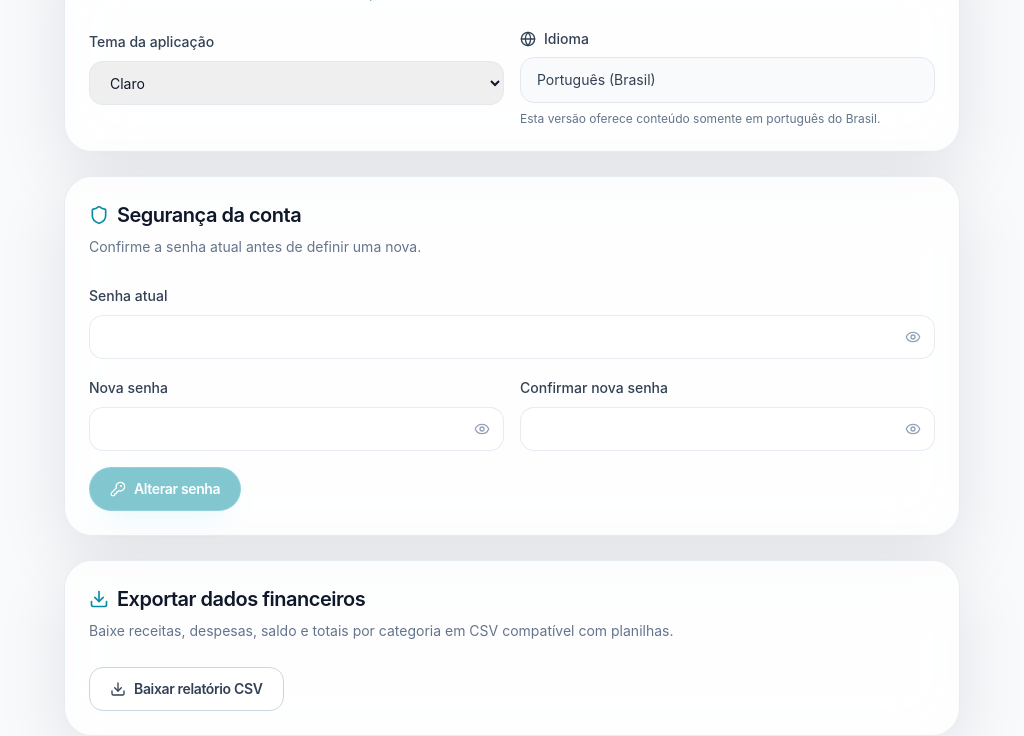
it: SettingsPage › downloads the financial CSV for the current user
(page scrolled)
Click the button "Baixar relatório CSV": (186, 689) left=89, top=667, right=284, bottom=711
(page scrolled)
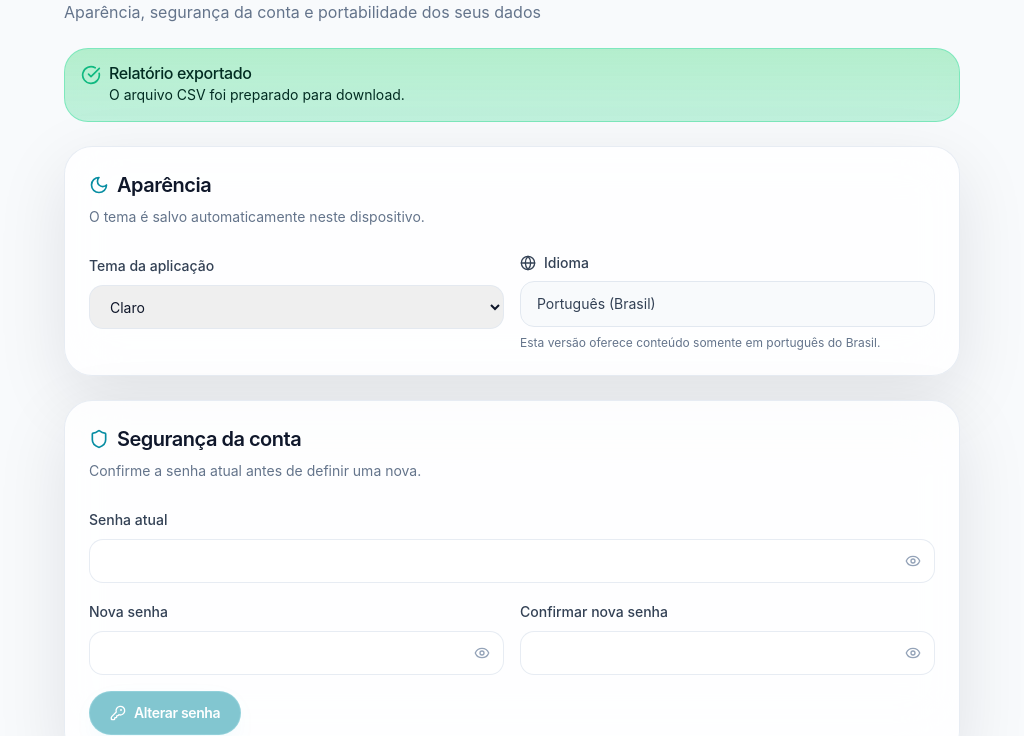
Result: the text "O arquivo CSV foi preparado para download." is shown at left=109, top=86, right=405, bottom=103
